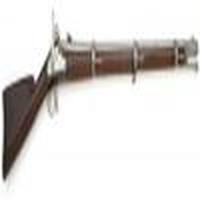gun: (2, 33, 199, 159)
